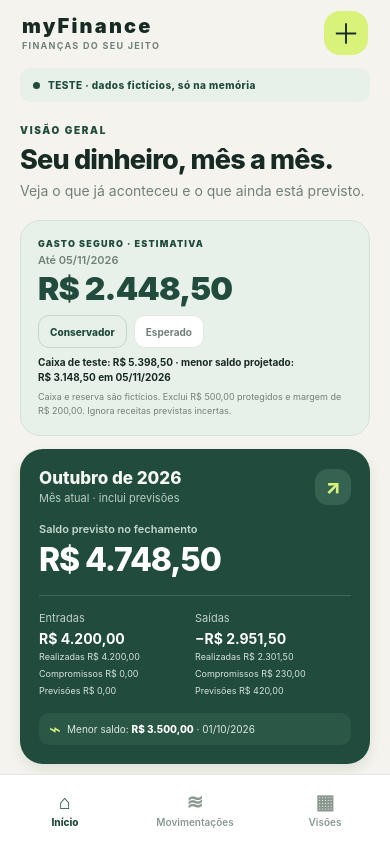
Test: app movement journeys › changes chronological order while keeping the newest-first default
Step 1. Click the tab with test id "tab-movements" → (195, 809), box left=156, top=790, right=234, bottom=828
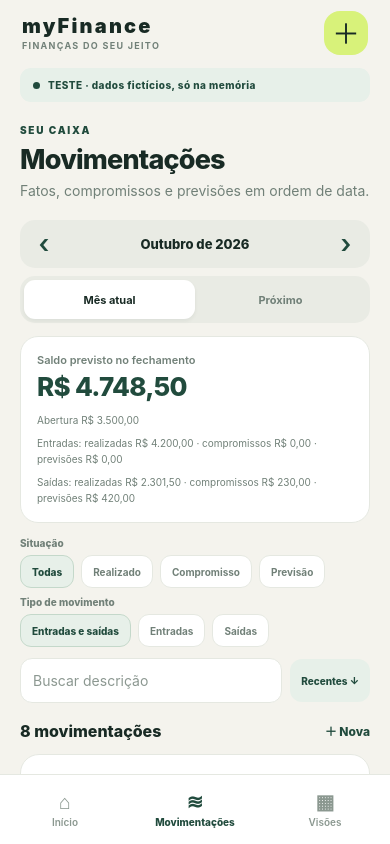
Step 2. Click the button with test id "movement-sort-button" → (330, 680), box left=290, top=659, right=370, bottom=702
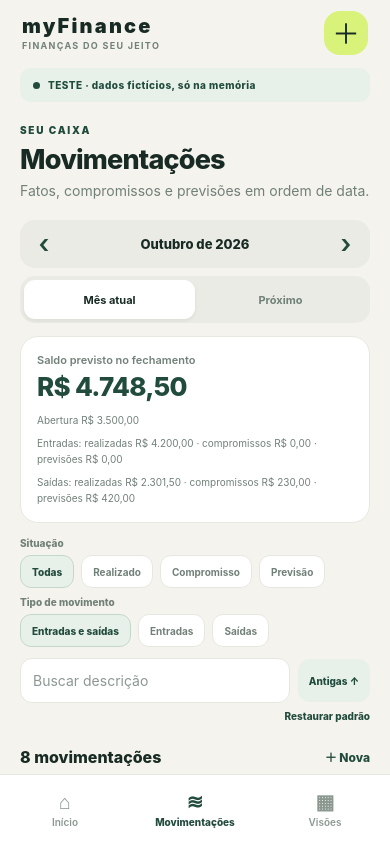
Now the text "Antigas ↑" is shown, box left=309, top=674, right=359, bottom=686
